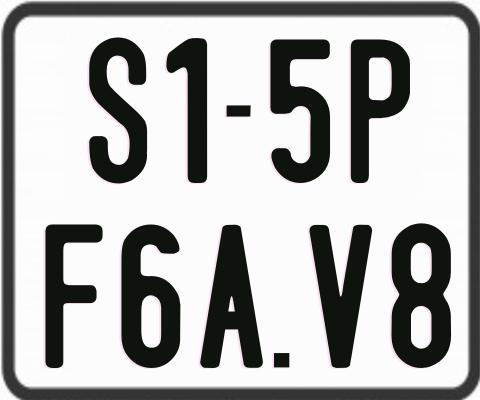1: (163, 38, 205, 188)
5: (270, 38, 330, 181)
6: (118, 222, 179, 365)
8: (391, 223, 457, 373)
A: (200, 223, 264, 367)
F: (42, 222, 105, 366)
P: (349, 39, 413, 184)
S: (89, 35, 147, 180)
V: (307, 223, 374, 371)
